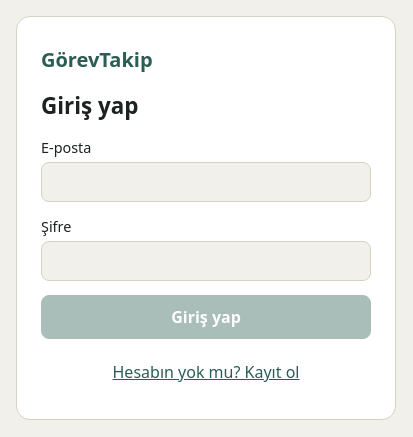
Test: AuthForm: giriş modu › alanlar boşken buton kapalıdır; ikisi de dolunca açılır
Expected: the button "Giriş yap" is disabled, [41, 295, 371, 339]
Type "ali@ornek.com" into the field labelled "E-posta" at coordinates (206, 182), box [41, 162, 371, 202]
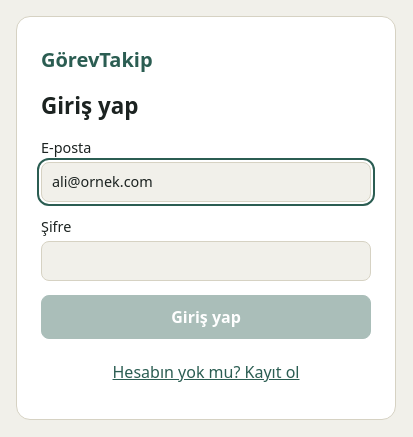
Expected: the button "Giriş yap" is disabled, [41, 295, 371, 339]
Type "Sifre1234!" into the password field labelled "Şifre" at coordinates (206, 261), box [41, 241, 371, 281]
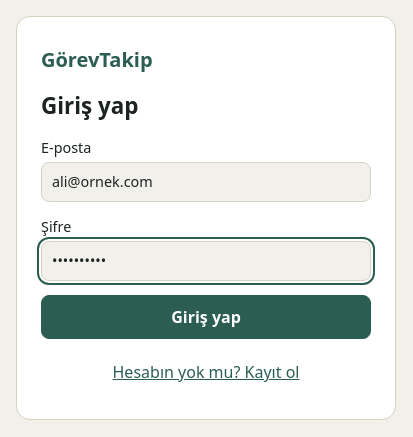
Expected: the button "Giriş yap" is enabled, [41, 295, 371, 339]
